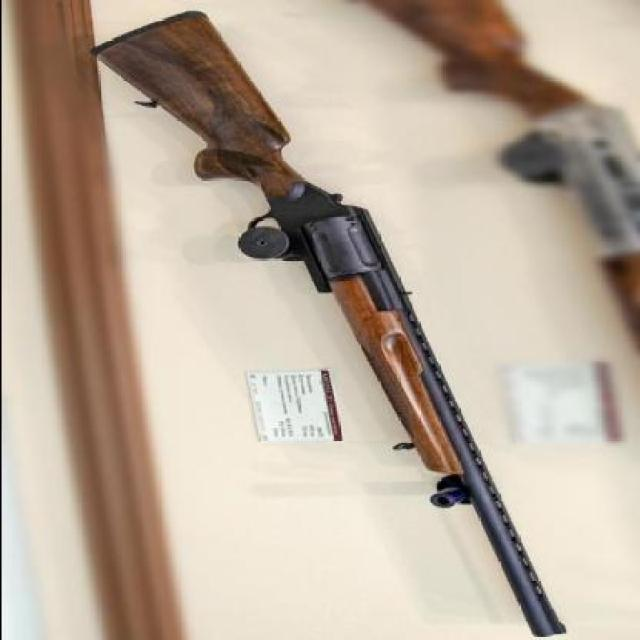weapon: (89, 8, 566, 639)
